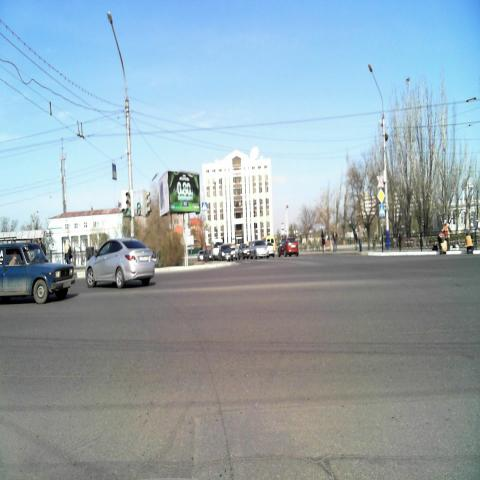1_11_1: (377, 176, 384, 188)
2_1: (376, 188, 386, 204)
5_19_1: (378, 204, 386, 216), (112, 163, 118, 179)
